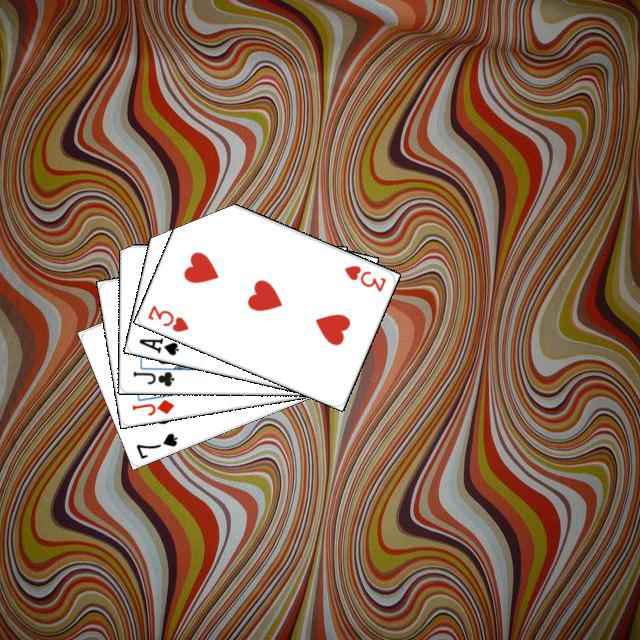3h: (339, 260, 388, 294), (143, 300, 190, 334)
7s: (131, 428, 179, 460)
As: (134, 333, 180, 357)
Jc: (128, 366, 176, 388)
Jd: (127, 394, 176, 417)
